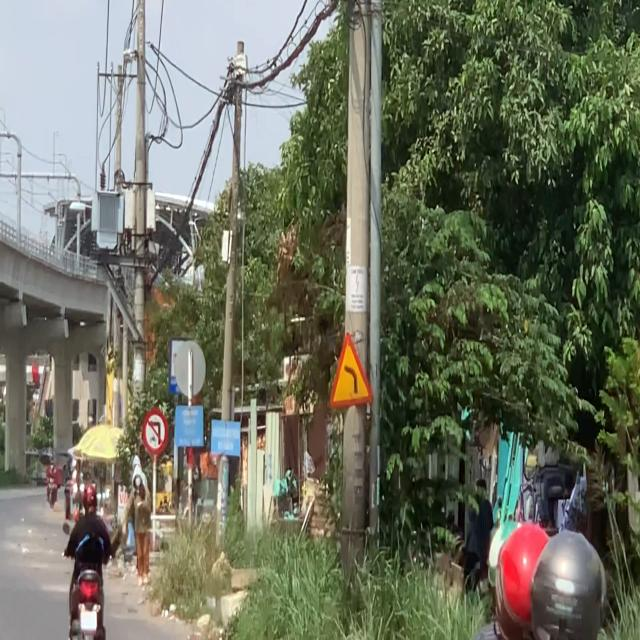Cam re trai: (142, 406, 168, 457)
Nguy hiem: (325, 330, 375, 411)
